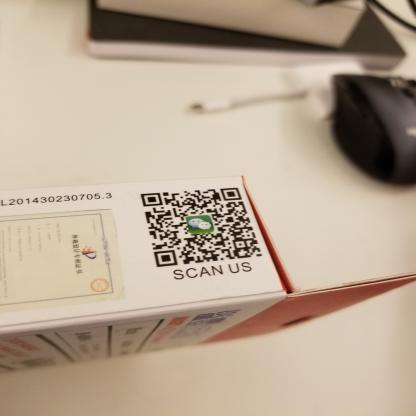qr: (139, 183, 267, 267)
